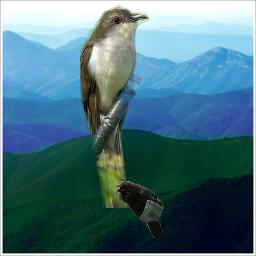Crow: (115, 181, 164, 240)
Cuckoo: (80, 2, 149, 208)
